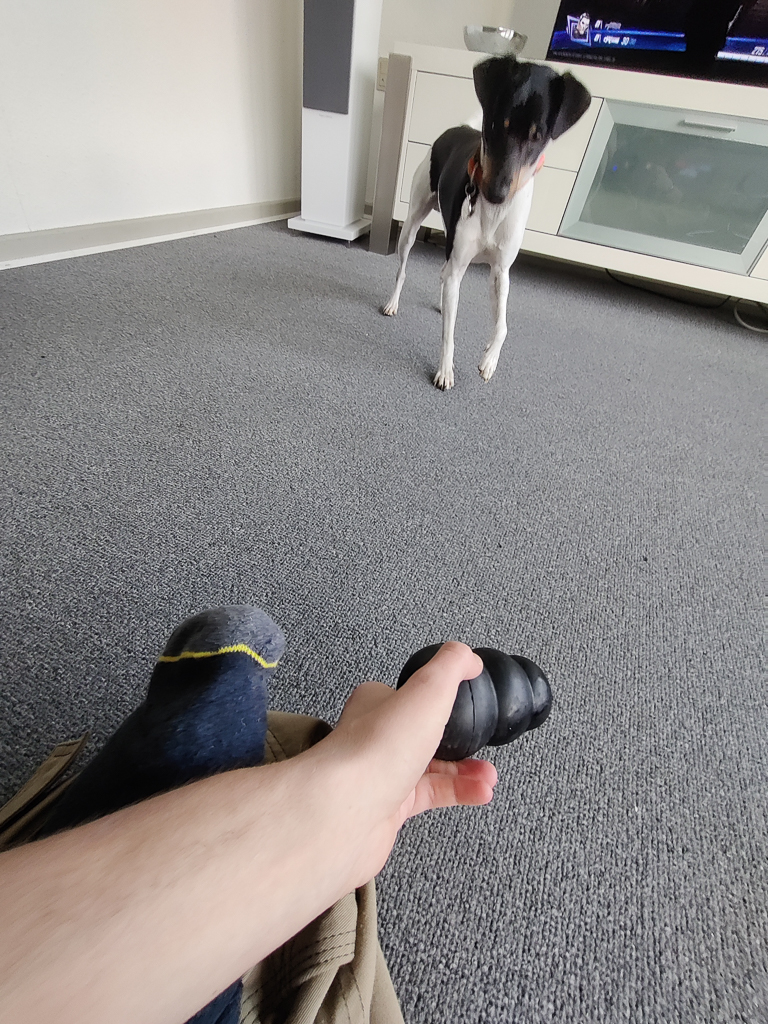Dog: (363, 36, 600, 402)
Humanoid: (0, 590, 511, 1024)
